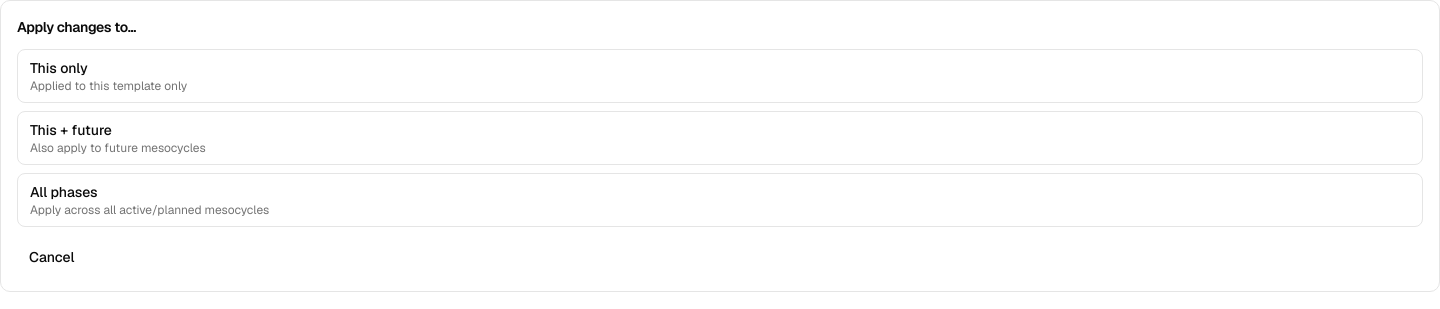
SlotCascadeScopeSelector — characterization › confirm step display › shows plural skip warning for multiple skipped templates
This screenshot has width=1440, height=309.
Step 1. Click the text "All phases" → (64, 192), box [30, 182, 98, 202]
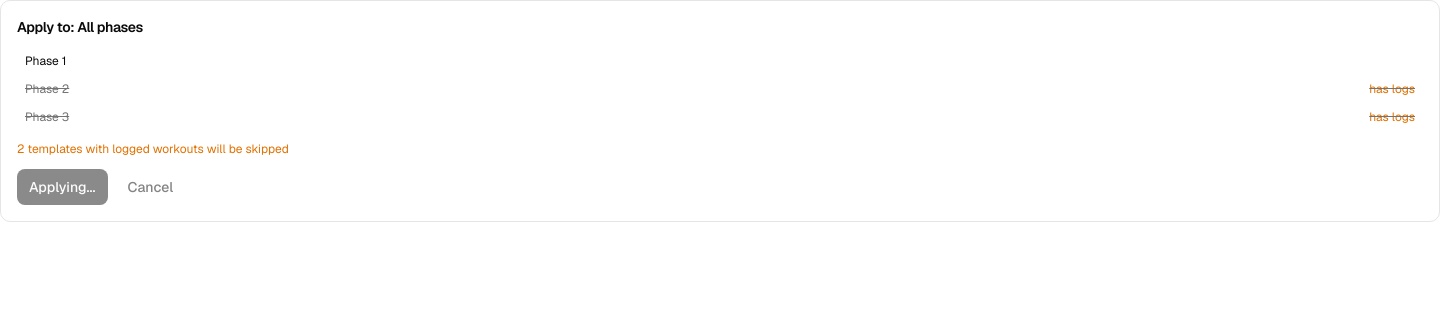
Check: the text "2 templates with logged workouts will be skipped" is shown, box [17, 141, 289, 157]
